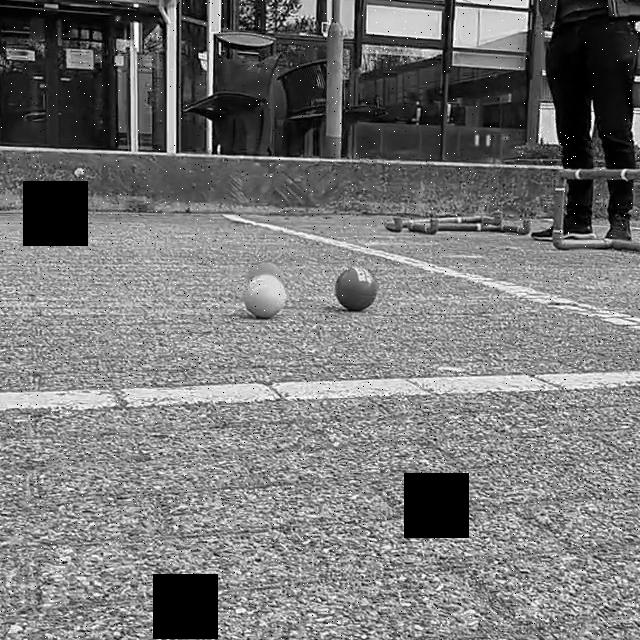ball: (334, 263, 379, 312), (242, 274, 286, 321)
